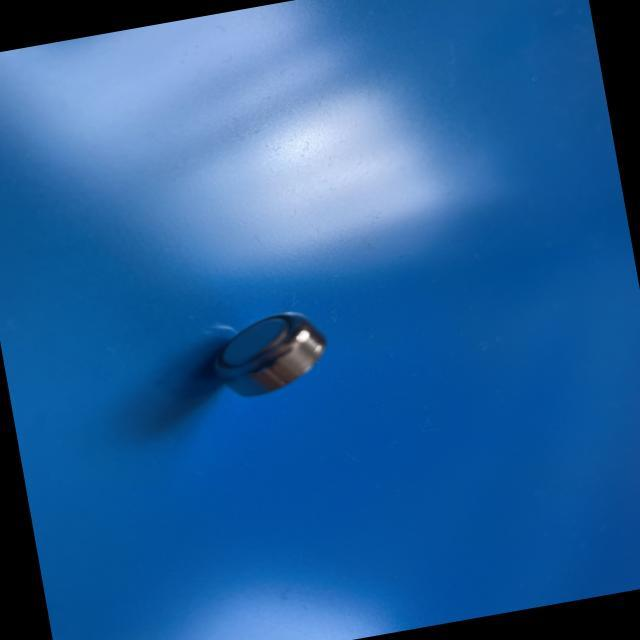COIN: (204, 304, 334, 405)
